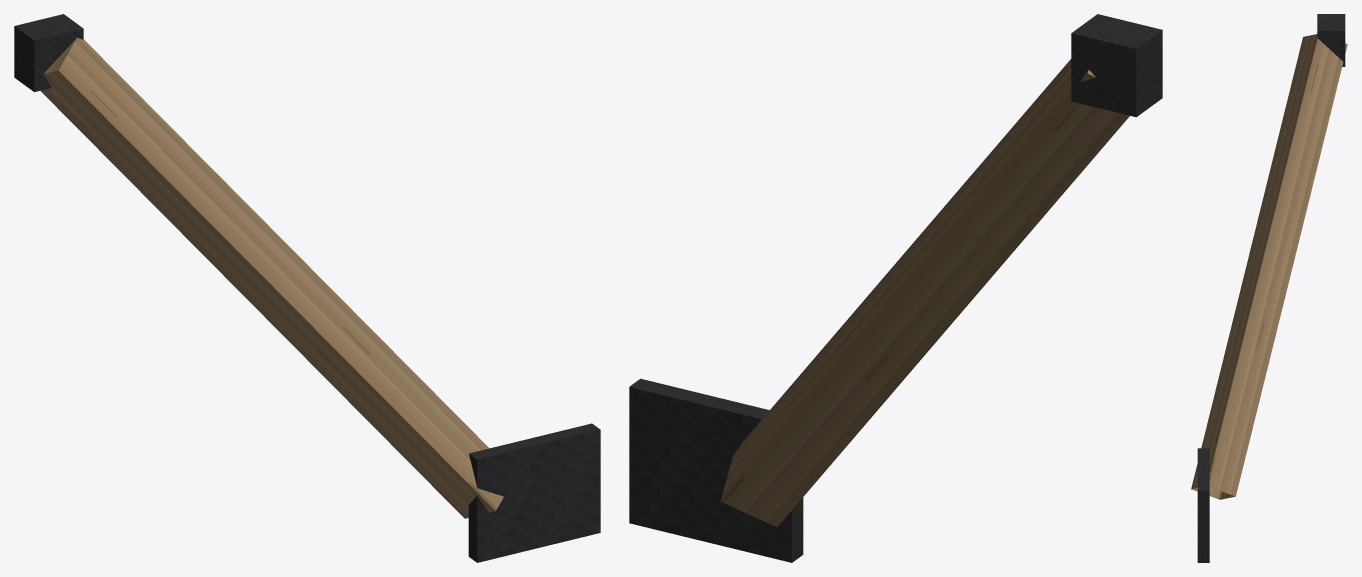
Rendered from brace_l.obj.
3 views of the same model, side by side, from view 1: azimuth 30°, elevation 25°; view 2: azimuth 150°, elevation 25°; view 3: azimuth 270°, elevation 25° (orthographic). The views are drawn at different scales.
Visible parts, largest first — view 1: crossarm_brace_wood_l; view 2: crossarm_brace_wood_l; view 3: crossarm_brace_wood_l.
Boxes of the visible parts, x1=… form: crossarm_brace_wood_l: x1=14, y1=14, x2=600, y2=562; crossarm_brace_wood_l: x1=629, y1=14, x2=1162, y2=562; crossarm_brace_wood_l: x1=1191, y1=14, x2=1347, y2=562.
Size of the model in its own units: 1.22 by 1.32 by 0.4899.
